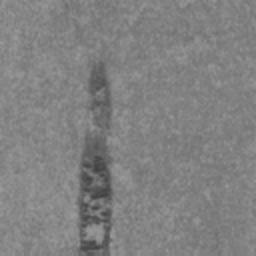Oxide scale of plate system: (76, 60, 116, 256)
